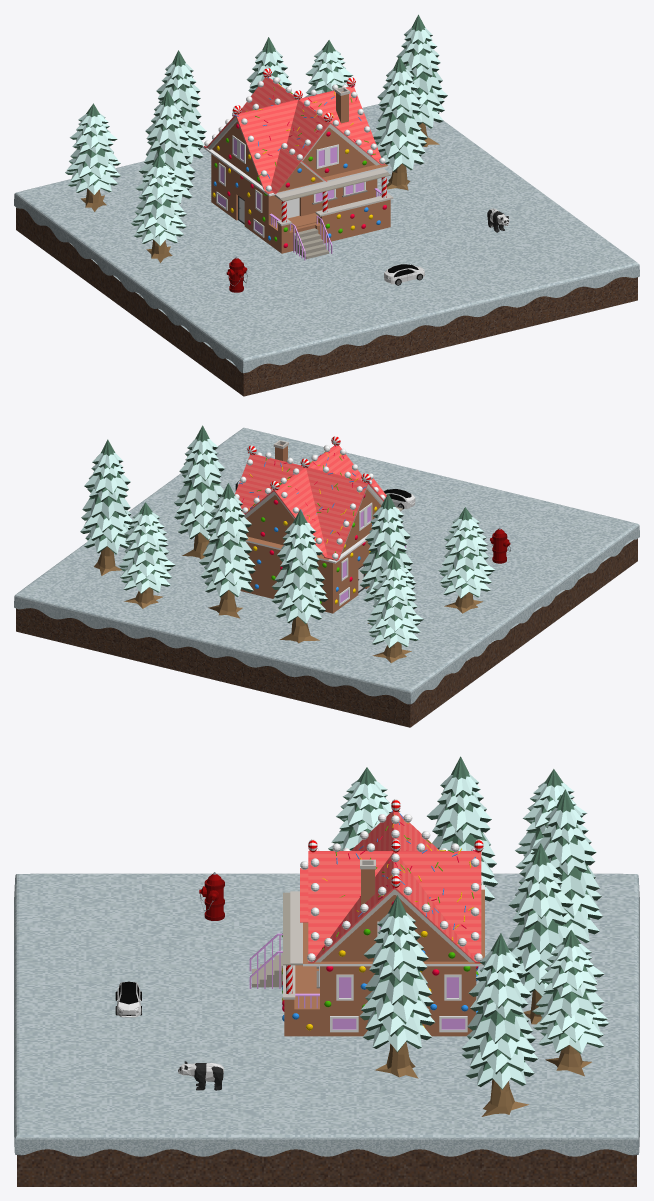
The picture shows the model from 3 angles, top to bottom: view 1: azimuth 30°, elevation 25°; view 2: azimuth 150°, elevation 25°; view 3: azimuth 270°, elevation 25°; orthographic projection. The views are drawn at different scales.
Visible parts, largest first — view 1: Cube.003, Cube.1203, VEHICLES_TESLA, OBJRANDOM_FIRE_HYDRANT; view 2: Cube.003, Cube.1203, OBJRANDOM_FIRE_HYDRANT, VEHICLES_TESLA; view 3: Cube.003, Cube.1203, OBJRANDOM_FIRE_HYDRANT, ANIMAL_PANDA, VEHICLES_TESLA.
Boxes of the visible parts, x1,y1,x2,y2 form: Cube.003: (14, 14, 639, 396); Cube.1203: (202, 68, 393, 260); VEHICLES_TESLA: (384, 264, 424, 285); OBJRANDOM_FIRE_HYDRANT: (226, 256, 247, 292); Cube.003: (14, 425, 639, 727); Cube.1203: (234, 436, 405, 613); OBJRANDOM_FIRE_HYDRANT: (490, 527, 510, 563); VEHICLES_TESLA: (383, 489, 415, 508); Cube.003: (14, 756, 639, 1186); Cube.1203: (249, 799, 484, 1036); OBJRANDOM_FIRE_HYDRANT: (199, 872, 224, 920); ANIMAL_PANDA: (178, 1061, 223, 1090); VEHICLES_TESLA: (115, 981, 141, 1017).
Size of the model in its own units: 4040 by 1715 by 4040.
35 materials, 5 textured.
